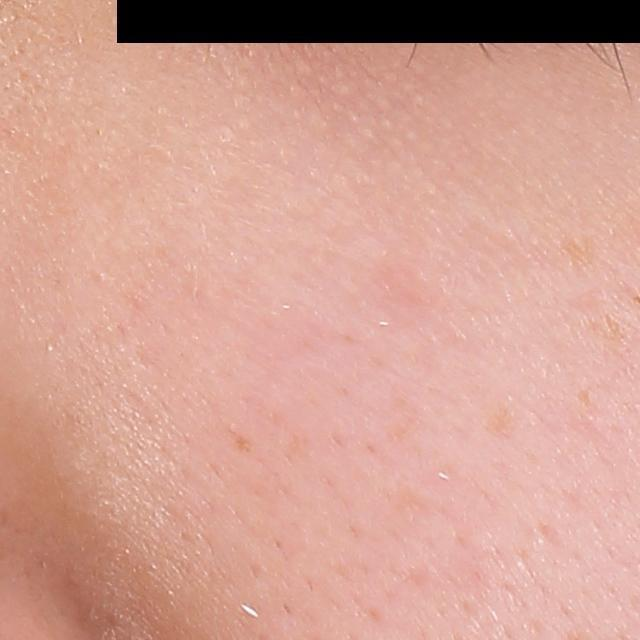melasma: (558, 232, 596, 269), (228, 428, 257, 457)
